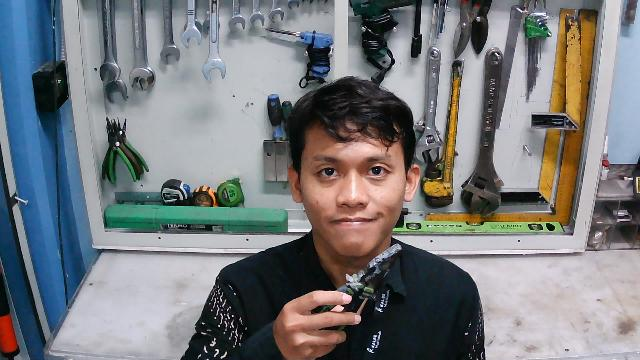tang_kombinasi: (317, 242, 403, 337)
